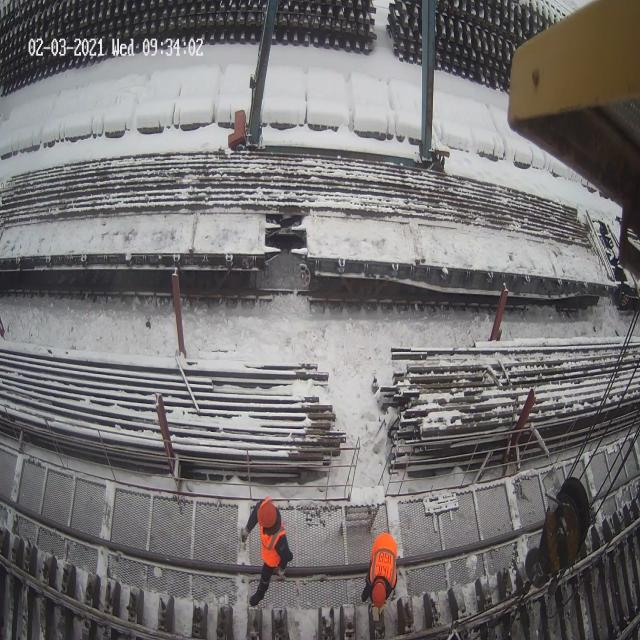Helmet: (369, 532, 397, 589), (258, 497, 276, 529)
Person: (240, 496, 293, 607), (359, 516, 408, 614)
